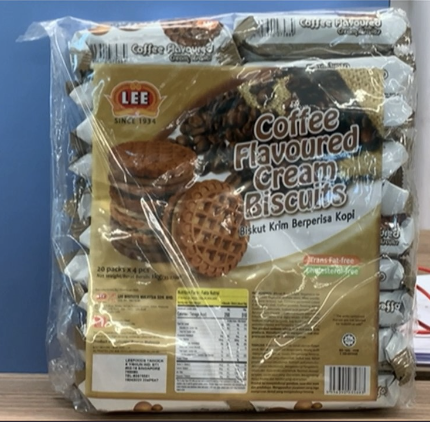cookies_1500g: (96, 60, 381, 398)
